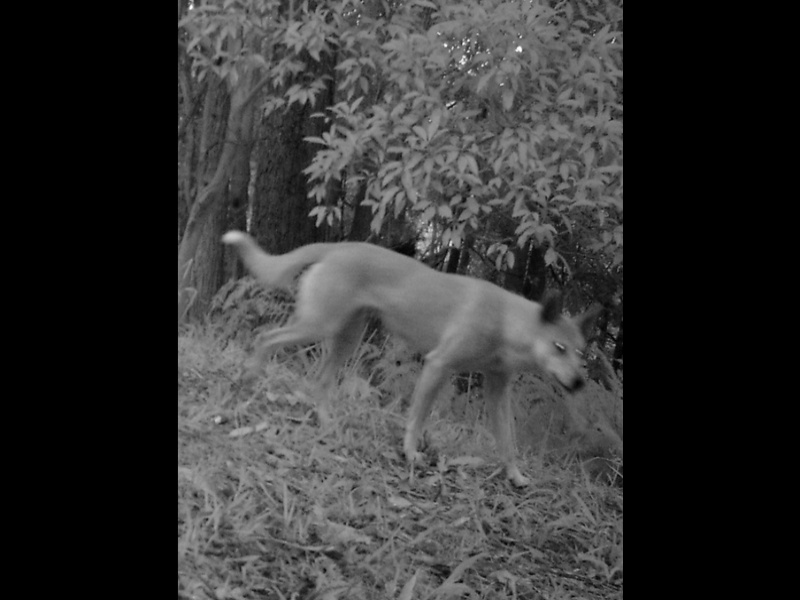dog: (215, 214, 593, 494)
